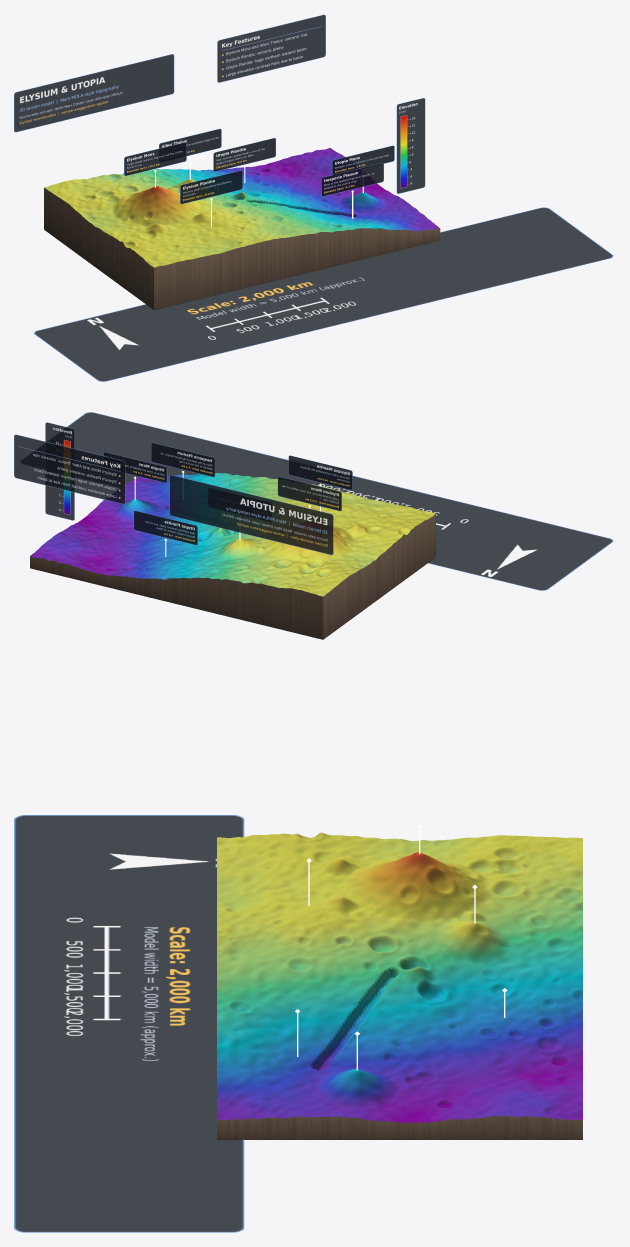
The model's file is 04_Elysium_Utopia.glb.
3 views of the same model, one above another, from view 1: azimuth 30°, elevation 25°; view 2: azimuth 150°, elevation 25°; view 3: azimuth 270°, elevation 25° (orthographic). The views are drawn at different scales.
Visible parts, largest first — view 1: Info_ScaleAndCompass, Terrain_Surface, Terrain_Walls, Info_Title, Info_KeyFeatures, Info_ElevationLegend, Label_Elysium Planitia, Label_Hesperia Planum, Label_Utopia Planitia, Label_Elysium Mons, Label_Utopia Mons, Label_Albor Tholus; view 2: Terrain_Surface, Info_ScaleAndCompass, Terrain_Walls, Info_Title, Info_KeyFeatures, Info_ElevationLegend, Label_Utopia Planitia, Label_Elysium Mons, Label_Elysium Planitia, Label_Hesperia Planum, Label_Utopia Mons, Label_Albor Tholus; view 3: Terrain_Surface, Info_ScaleAndCompass, Terrain_Walls.
Part boxes in pixels (<box>): Info_ScaleAndCompass: <box>34,207,613,381</box>; Terrain_Surface: <box>44,148,439,267</box>; Terrain_Walls: <box>44,187,440,310</box>; Info_Title: <box>14,54,174,132</box>; Info_KeyFeatures: <box>217,14,325,82</box>; Info_ElevationLegend: <box>396,98,425,193</box>; Label_Elysium Planitia: <box>180,170,242,204</box>; Label_Hesperia Planum: <box>321,163,383,196</box>; Label_Utopia Planitia: <box>213,138,275,171</box>; Label_Elysium Mons: <box>124,142,186,175</box>; Label_Utopia Mons: <box>332,145,394,174</box>; Label_Albor Tholus: <box>159,128,221,155</box>; Terrain_Surface: <box>30,473,435,596</box>; Info_ScaleAndCompass: <box>23,412,613,590</box>; Terrain_Walls: <box>30,514,435,639</box>; Info_Title: <box>169,475,333,555</box>; Info_KeyFeatures: <box>14,434,125,504</box>; Info_ElevationLegend: <box>45,422,74,520</box>; Label_Utopia Planitia: <box>133,510,197,545</box>; Label_Elysium Mons: <box>277,476,341,511</box>; Label_Elysium Planitia: <box>288,455,352,489</box>; Label_Hesperia Planum: <box>151,442,214,477</box>; Label_Utopia Mons: <box>103,452,167,482</box>; Label_Albor Tholus: <box>208,488,271,521</box>; Terrain_Surface: <box>217,832,582,1122</box>; Info_ScaleAndCompass: <box>14,815,244,1232</box>; Terrain_Walls: <box>217,1116,582,1139</box>.
Bounding box in the file's own units: 18 × 4.57 × 10.97.
12 materials, 10 textured.
